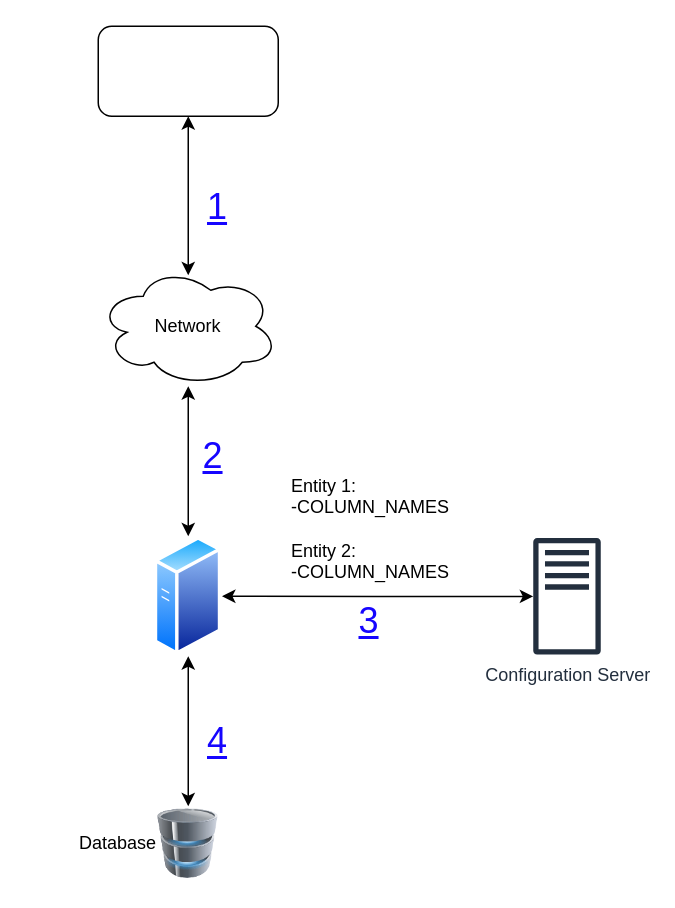
Some shapes in this 675 by 908 pixel diagram are drawn without their labels. Each missing label, with the box of its shape:
Client: (97, 25, 278, 116)
SyncServer API: (154, 536, 221, 656)
